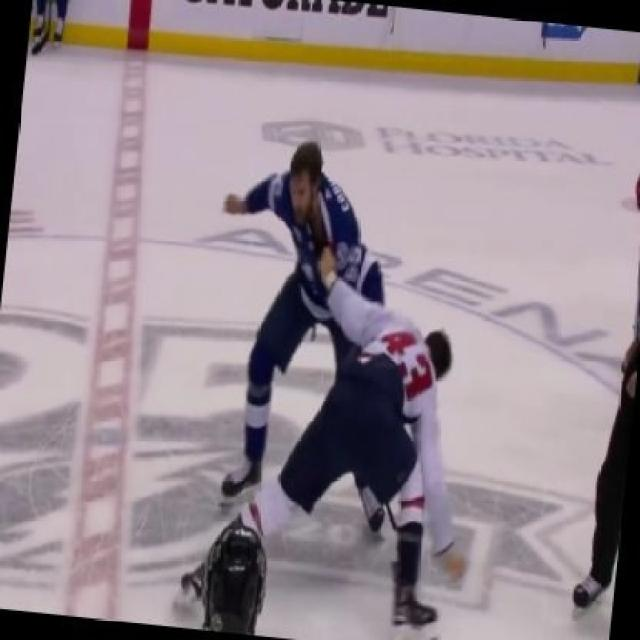fight: (195, 129, 468, 627)
